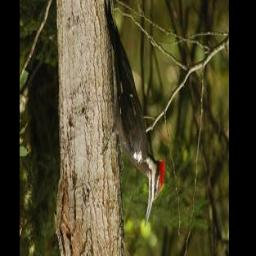Woodpecker: (97, 0, 166, 229)
